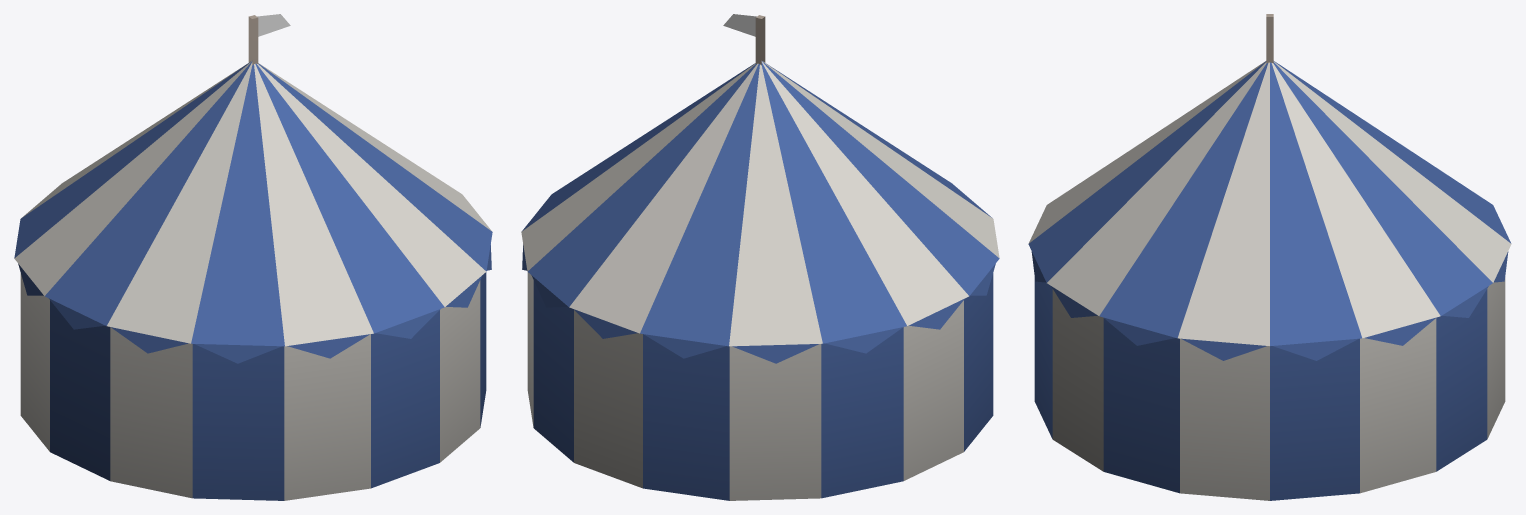
Rendered from pavilion_0.glb.
The picture shows the model from 3 angles, left to right: view 1: azimuth 30°, elevation 25°; view 2: azimuth 150°, elevation 25°; view 3: azimuth 270°, elevation 25°; orthographic projection.
Visible parts, largest first — view 1: pavilion_0; view 2: pavilion_0; view 3: pavilion_0.
Boxes of the visible parts, box(x1,y1,x2,y2) form: pavilion_0: box(14, 14, 492, 500); pavilion_0: box(521, 14, 999, 500); pavilion_0: box(1028, 14, 1511, 500).
Bounding box in the file's own units: 6.15 × 5.42 × 6.15.
